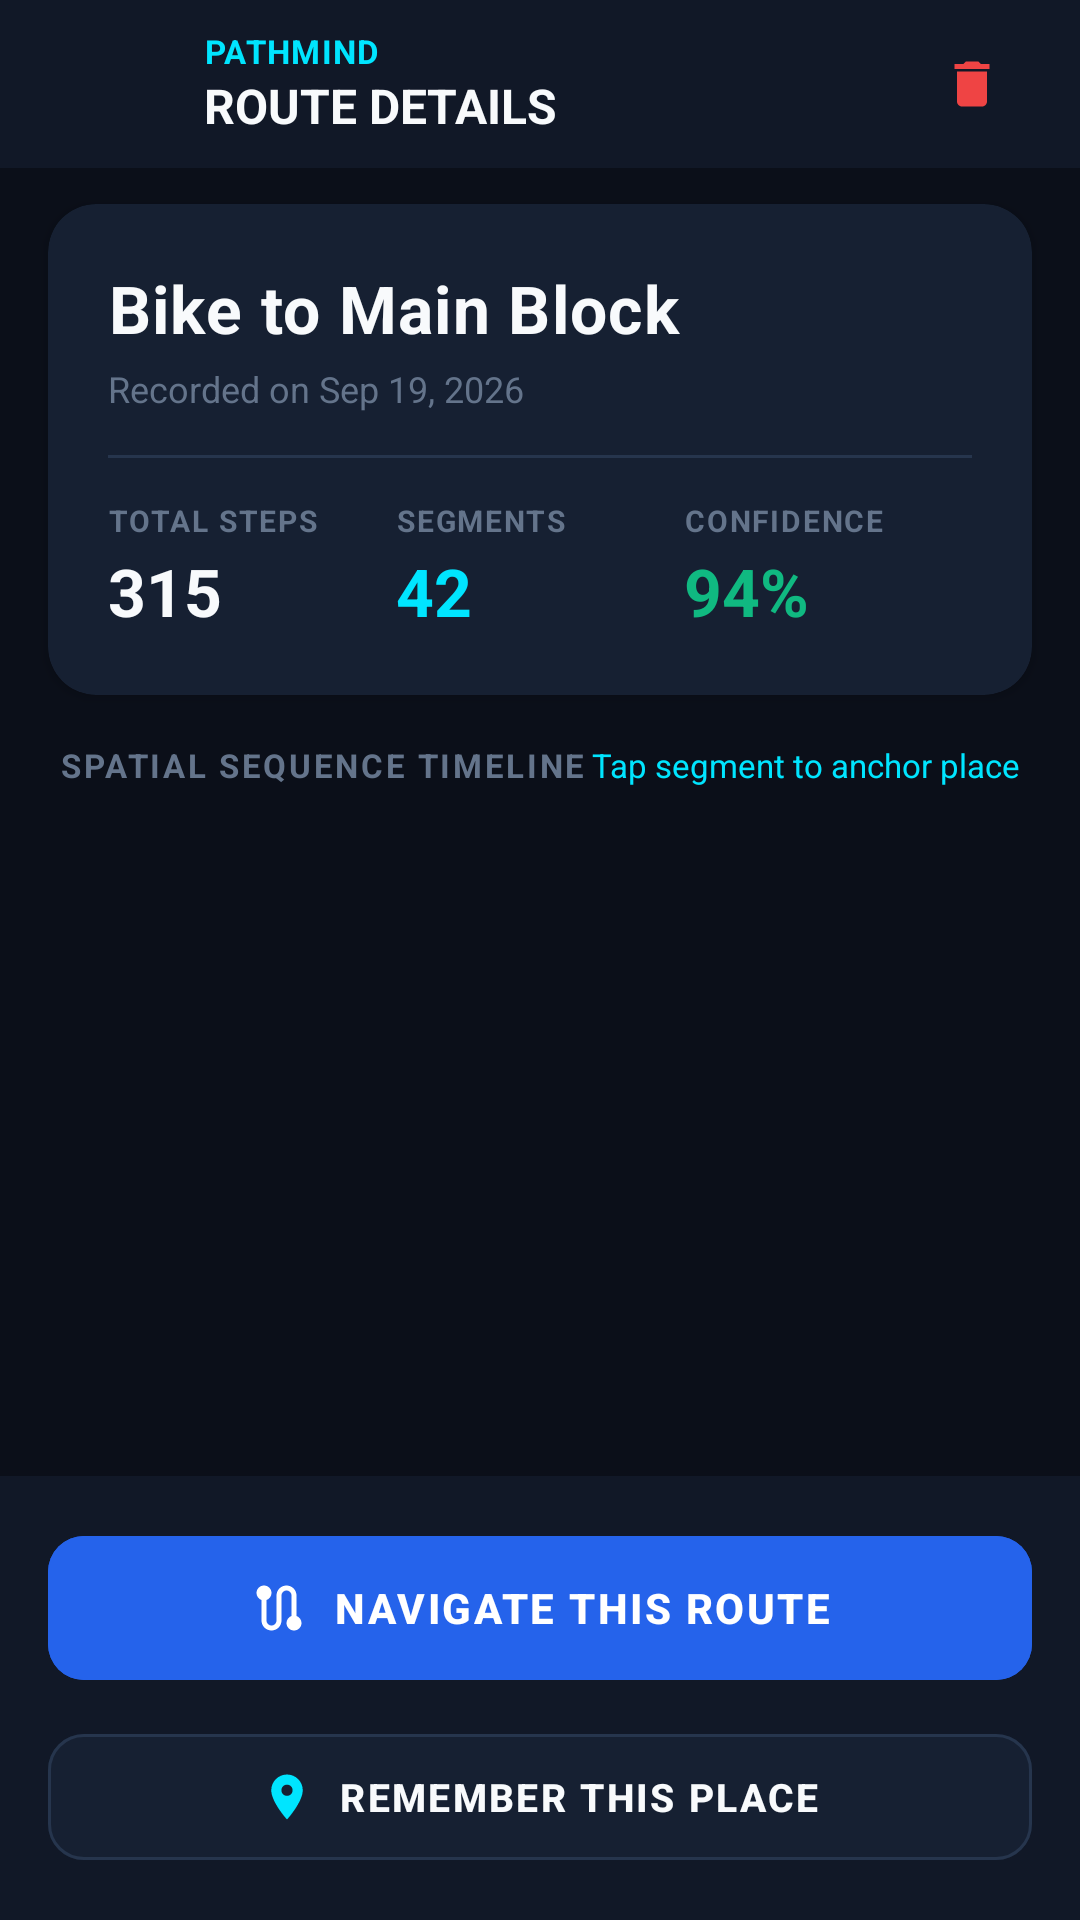

Named icons in this screenshot (1080 × 1920) and their centers, (x,y):
Delete Route: (972,84)
